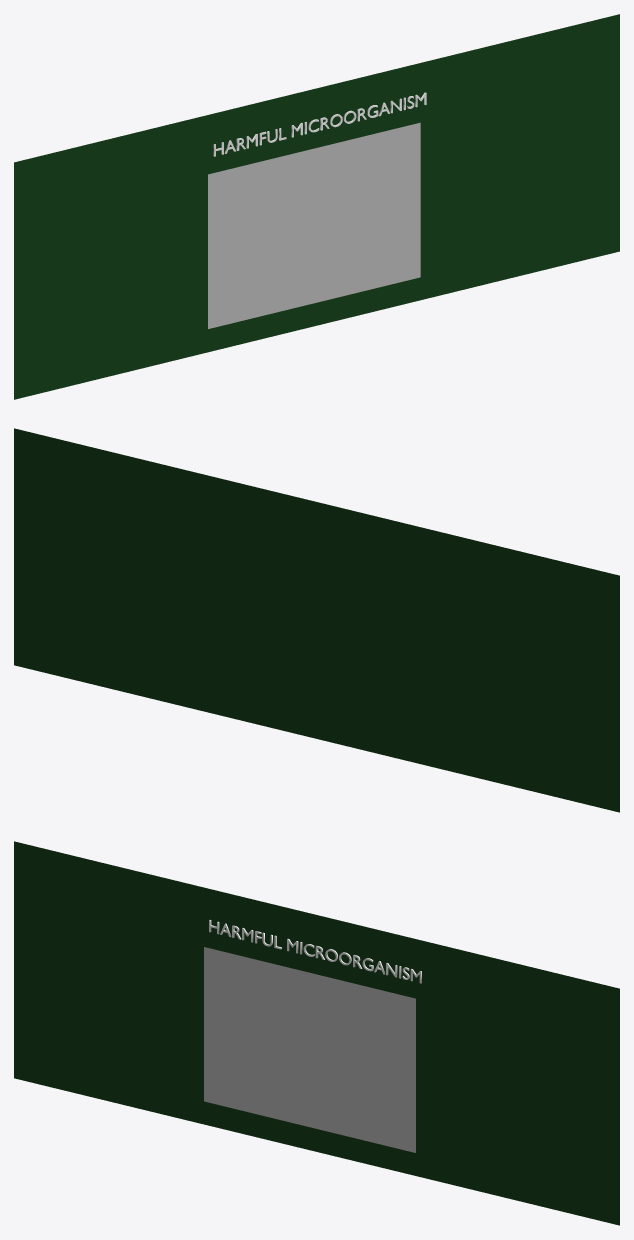
Rendered from virus.gltf.
3 views of the same model, one above another, from view 1: azimuth 30°, elevation 25°; view 2: azimuth 150°, elevation 25°; view 3: azimuth 330°, elevation 25° (orthographic).
Visible parts, largest first — view 1: Plane.013, Plane, Text.008; view 2: Plane.013; view 3: Plane.013, Plane, Text.008.
Part boxes in pixels (x1=…): Plane.013: x1=14, y1=14, x2=619, y2=399; Plane: x1=208, y1=122, x2=420, y2=328; Text.008: x1=213, y1=92, x2=426, y2=156; Plane.013: x1=14, y1=428, x2=619, y2=812; Plane.013: x1=14, y1=841, x2=619, y2=1225; Plane: x1=204, y1=947, x2=415, y2=1152; Text.008: x1=209, y1=920, x2=421, y2=983.
Bounding box in the file's own units: 15.94 × 5.96 × 0.1403.
